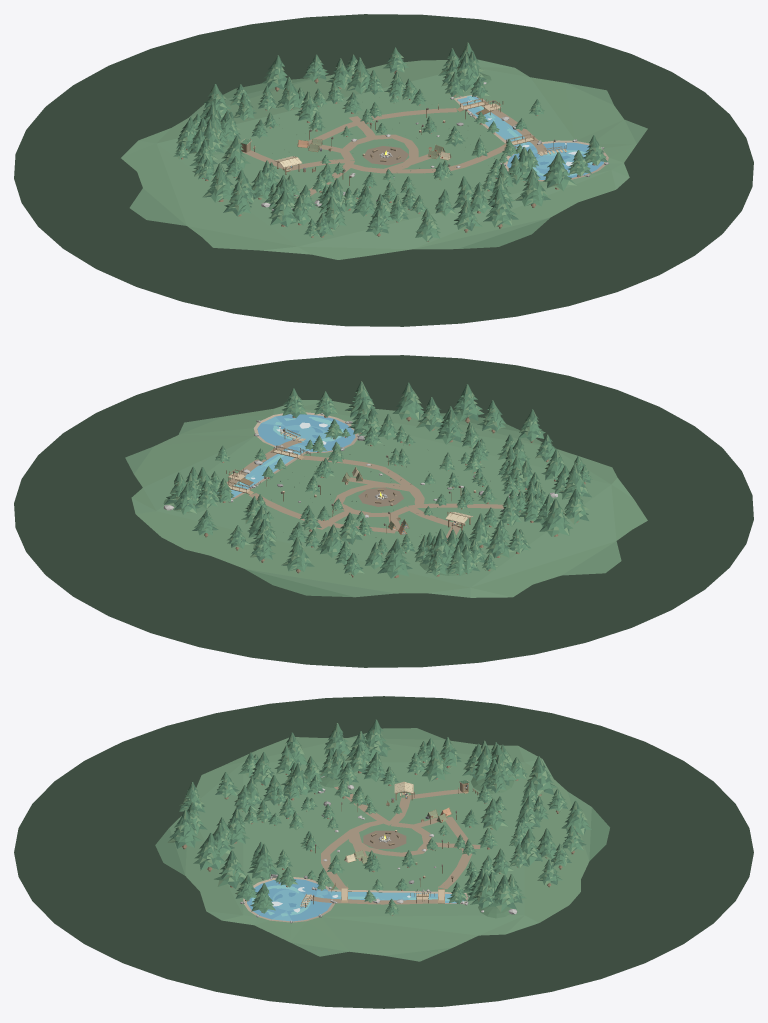
File: Environment.fbx
The picture shows the model from 3 angles, top to bottom: view 1: azimuth 30°, elevation 25°; view 2: azimuth 150°, elevation 25°; view 3: azimuth 270°, elevation 25°; orthographic projection.
Visible parts, largest first — view 1: CAMP_Ground_Skirt, CAMP_Terrain_Rim, CAMP_Terrain_Grass, CAMP_Terrain_Paths, Water_Lake, Water_Creek, CAMP_Pine_125_Leaves, CAMP_Pine_126_Leaves, CAMP_Pine_127_Leaves, CAMP_Pine_118_Leaves, CAMP_Terrain_Plaza, CAMP_Pine_120_Leaves (+1 smaller); view 2: CAMP_Ground_Skirt, CAMP_Terrain_Rim, CAMP_Terrain_Grass, CAMP_Terrain_Paths, Water_Lake, CAMP_Pine_114_Leaves, Water_Creek, CAMP_Pine_118_Leaves, CAMP_Pine_125_Leaves, CAMP_Pine_126_Leaves, CAMP_Terrain_Plaza, CAMP_Pine_112_Leaves (+3 smaller); view 3: CAMP_Ground_Skirt, CAMP_Terrain_Rim, CAMP_Terrain_Grass, CAMP_Terrain_Paths, Water_Lake, Water_Creek, CAMP_Pine_125_Leaves, CAMP_Pine_127_Leaves, CAMP_Pine_126_Leaves, CAMP_Pine_114_Leaves, CAMP_Terrain_Plaza, CAMP_Pine_118_Leaves (+2 smaller).
Part boxes in pixels (<box>): CAMP_Ground_Skirt: <box>14,14,753,326</box>; CAMP_Terrain_Rim: <box>121,59,647,259</box>; CAMP_Terrain_Grass: <box>157,74,610,246</box>; CAMP_Terrain_Paths: <box>243,103,546,198</box>; Water_Lake: <box>507,142,603,179</box>; Water_Creek: <box>457,96,537,153</box>; CAMP_Pine_125_Leaves: <box>483,188,518,227</box>; CAMP_Pine_126_Leaves: <box>515,168,550,206</box>; CAMP_Pine_127_Leaves: <box>543,152,576,190</box>; CAMP_Pine_118_Leaves: <box>202,163,234,202</box>; CAMP_Terrain_Plaza: <box>363,146,408,165</box>; CAMP_Pine_120_Leaves: <box>269,190,296,227</box>; CAMP_Ground_Skirt: <box>14,355,753,667</box>; CAMP_Terrain_Rim: <box>125,399,647,597</box>; CAMP_Terrain_Grass: <box>157,410,610,587</box>; CAMP_Terrain_Paths: <box>226,439,503,540</box>; Water_Lake: <box>257,414,355,451</box>; CAMP_Pine_114_Leaves: <box>377,538,412,578</box>; Water_Creek: <box>218,443,308,498</box>; CAMP_Pine_118_Leaves: <box>539,498,572,536</box>; CAMP_Pine_125_Leaves: <box>453,384,484,421</box>; CAMP_Pine_126_Leaves: <box>392,382,424,419</box>; CAMP_Terrain_Plaza: <box>358,487,403,506</box>; CAMP_Pine_112_Leaves: <box>281,537,314,571</box>; CAMP_Ground_Skirt: <box>14,696,753,1008</box>; CAMP_Terrain_Rim: <box>155,728,609,961</box>; CAMP_Terrain_Grass: <box>243,762,524,915</box>; CAMP_Terrain_Paths: <box>307,786,480,904</box>; Water_Lake: <box>247,879,331,921</box>; Water_Creek: <box>316,890,463,903</box>; CAMP_Pine_125_Leaves: <box>167,809,202,848</box>; CAMP_Pine_127_Leaves: <box>214,850,246,888</box>; CAMP_Pine_126_Leaves: <box>193,832,225,870</box>; CAMP_Pine_114_Leaves: <box>523,756,557,796</box>; CAMP_Terrain_Plaza: <box>363,830,406,848</box>; CAMP_Pine_118_Leaves: <box>364,719,391,757</box>.
Size of the model in its own units: 184 by 14.32 by 184.
